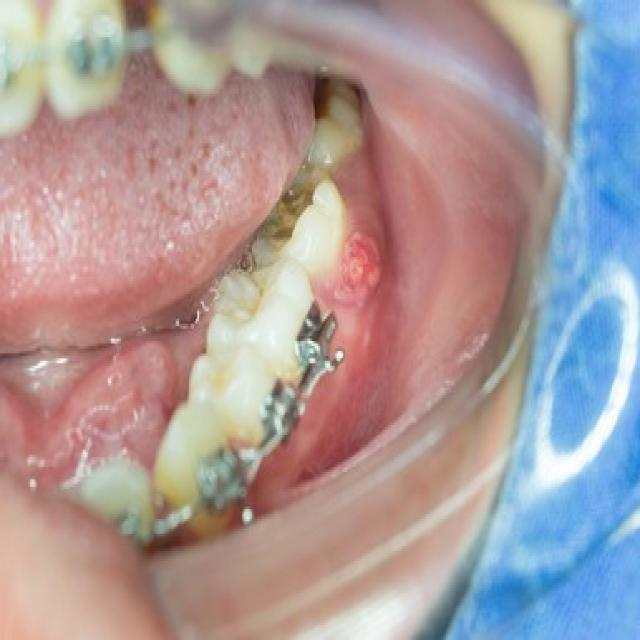abscess: (321, 217, 399, 311)
